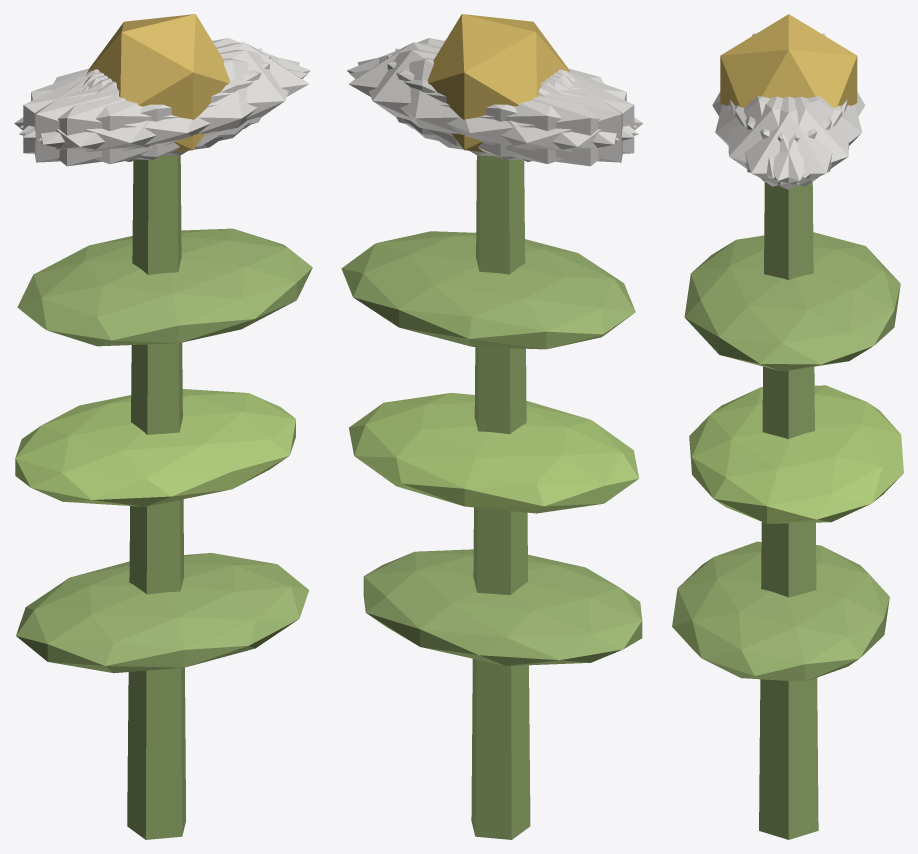
Rendered from richardia-brasiliensis.glb.
3 views of the same model, side by side, from view 1: azimuth 30°, elevation 25°; view 2: azimuth 150°, elevation 25°; view 3: azimuth 270°, elevation 25° (orthographic).
Visible parts, largest first — view 1: stem, leaf0, leaf2, leaf1, center, petal1, petal6, petal2, petal5, petal7, petal0, petal4 (+2 smaller); view 2: stem, leaf1, leaf2, leaf0, center, petal8, petal3, petal7, petal4, petal2, petal0, petal5 (+2 smaller); view 3: leaf2, stem, leaf1, leaf0, center, petal0, petal5, petal4, petal1, petal8.
Part boxes in pixels (x1,y1,x2,y2): stem: (127,155,186,839); leaf0: (16,553,309,673); leaf2: (17,228,312,346); leaf1: (15,389,295,506); center: (87,14,229,152); petal1: (19,58,307,163); petal6: (14,71,223,166); petal2: (34,48,262,162); petal5: (38,49,299,156); petal7: (23,54,270,159); petal0: (87,42,308,146); petal4: (20,38,310,137); stem: (471,155,530,839); leaf1: (349,393,638,513); leaf2: (341,231,635,349); leaf0: (363,549,642,665); center: (427,14,570,152); petal8: (349,58,638,164); petal3: (434,71,643,166); petal7: (395,48,622,162); petal4: (357,49,618,156); petal2: (387,55,634,159); petal0: (349,42,570,146); petal5: (347,38,637,137); leaf2: (684,232,900,371); stem: (759,181,818,839); leaf1: (689,385,903,523); leaf0: (672,541,889,681); center: (720,14,857,107); petal0: (730,96,847,189); petal5: (728,96,842,186); petal4: (735,96,849,186); petal1: (715,96,831,178); petal8: (745,96,862,178).
Bounding box in the file's own units: 0.1452 × 0.392 × 0.1037.
